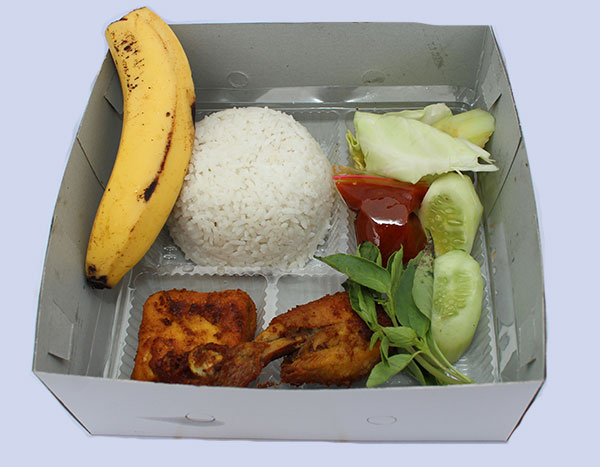buah_sayur_lainnya: (367, 269, 474, 323), (366, 119, 468, 171)
buah_sayur_vitA: (85, 6, 196, 294), (354, 185, 396, 247)
daging: (282, 310, 351, 374)
kacang_legume: (150, 292, 234, 347)
makanan_berpati: (207, 135, 306, 236)
